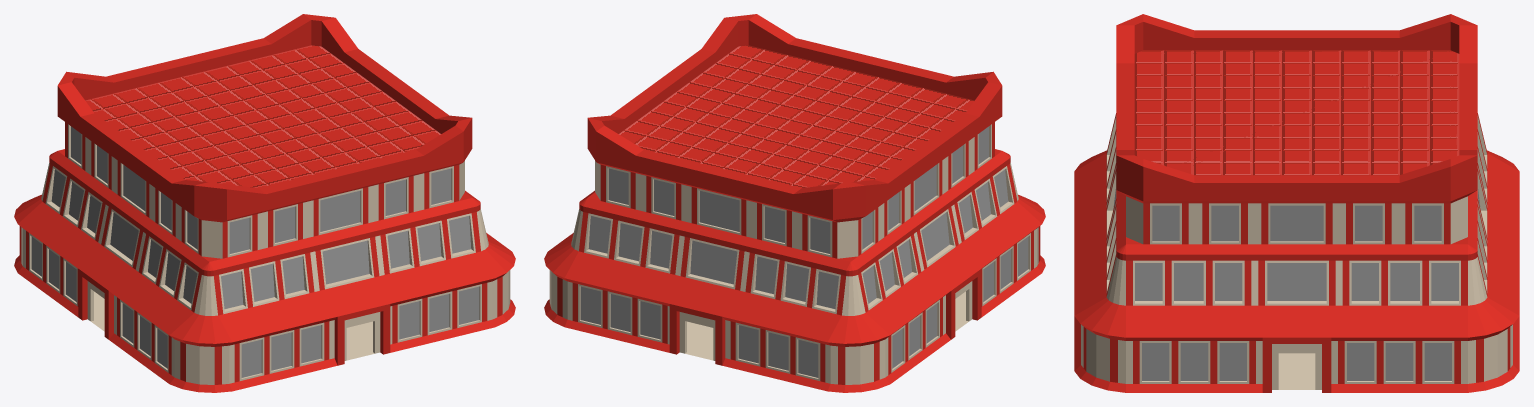
File: Fortress.fbx
3 renders of one model, left to right at view 1: azimuth 30°, elevation 25°; view 2: azimuth 150°, elevation 25°; view 3: azimuth 270°, elevation 25°, orthographic. The views are drawn at different scales.
Visible parts, largest first — view 1: Fortress, Glass; view 2: Fortress, Glass; view 3: Fortress, Glass.
Boxes of the visible parts, x1=… form: Fortress: x1=14, y1=14, x2=515, y2=392; Glass: x1=31, y1=126, x2=479, y2=377; Fortress: x1=544, y1=14, x2=1045, y2=392; Glass: x1=580, y1=126, x2=1028, y2=377; Fortress: x1=1074, y1=14, x2=1519, y2=392; Glass: x1=1113, y1=189, x2=1480, y2=380.
Size of the model in its own units: 2468 by 1275 by 2468.
Materials: 3 (3 with a texture image).
